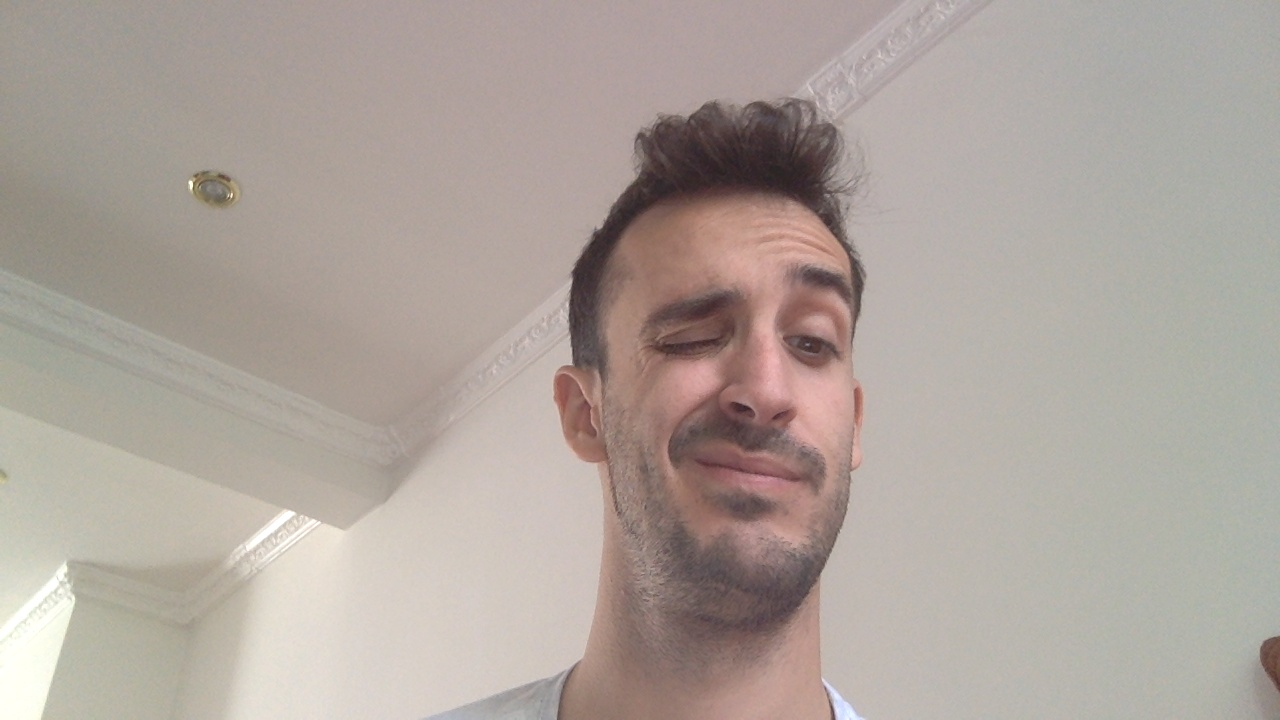wink: (637, 311, 741, 369)
